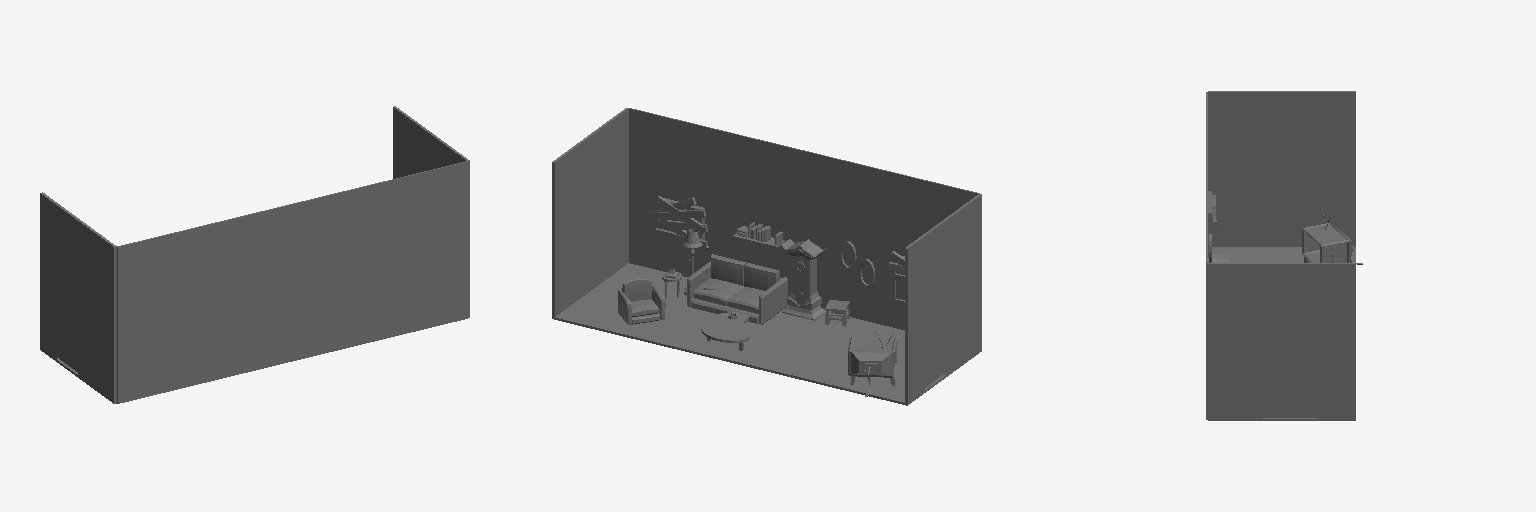
The model's file is salon.obj.
3 views of the same model, side by side, from view 1: azimuth 30°, elevation 25°; view 2: azimuth 150°, elevation 25°; view 3: azimuth 270°, elevation 25° (orthographic).
Parts seen in each view (by area): view 1: Salon salon:Paredes; view 2: Salon salon:Paredes, group4 Salon polySurface6, group4 Salon pCube57, group4 Salon pCube61, Salon group5 pCube64, group4 Salon pCylinder8, Salon pCube65 group5, Salon group5 pCube67, Salon group5 pCube68, Salon group7 polySurface60 pCube64, Salon group5 pCube66, Salon group7 pCube67; view 3: Salon salon:Paredes, group4 Salon polySurface6.
Boxes of the visible parts, x1=… form: Salon salon:Paredes: x1=40, y1=106, x2=469, y2=403; Salon salon:Paredes: x1=552, y1=108, x2=981, y2=405; group4 Salon polySurface6: x1=848, y1=336, x2=896, y2=377; group4 Salon pCube57: x1=648, y1=196, x2=709, y2=253; group4 Salon pCube61: x1=782, y1=251, x2=825, y2=320; Salon group5 pCube64: x1=687, y1=261, x2=787, y2=324; group4 Salon pCylinder8: x1=701, y1=312, x2=748, y2=342; Salon pCube65 group5: x1=694, y1=278, x2=743, y2=305; Salon group5 pCube67: x1=711, y1=254, x2=746, y2=285; Salon group5 pCube68: x1=744, y1=263, x2=779, y2=290; Salon group7 polySurface60 pCube64: x1=618, y1=280, x2=665, y2=324; Salon group5 pCube66: x1=727, y1=287, x2=764, y2=313; Salon group7 pCube67: x1=623, y1=279, x2=651, y2=301; Salon salon:Paredes: x1=1206, y1=91, x2=1355, y2=420; group4 Salon polySurface6: x1=1302, y1=223, x2=1351, y2=262.
Bounding box in the file's own units: 116 × 48.89 × 47.12.